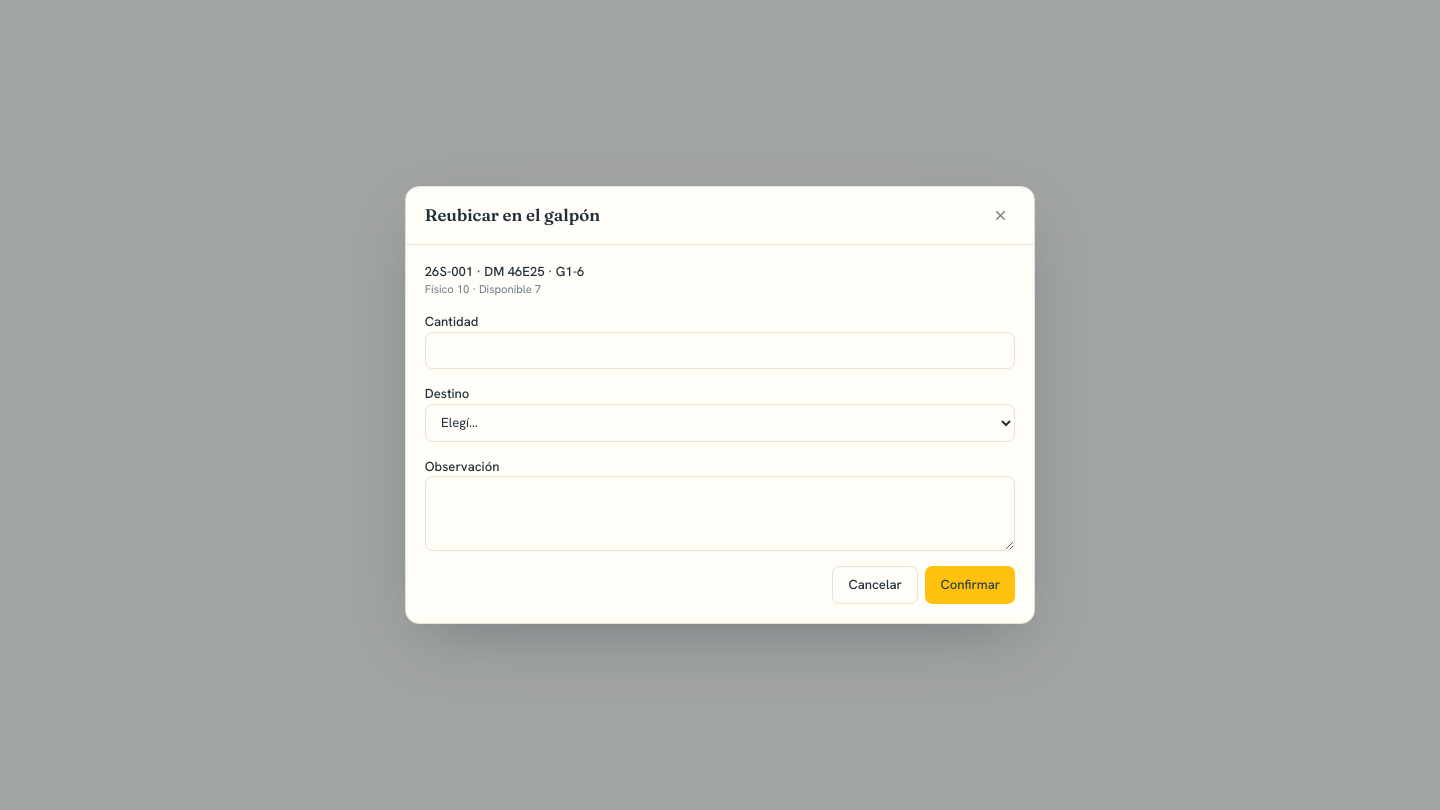
MovimientoDialog › reubicar más que lo disponible avisa antes de mandar (R5.3)
Select "G5-18" in the dropdown labelled "Destino": (720, 423) [425,404,1015,442]
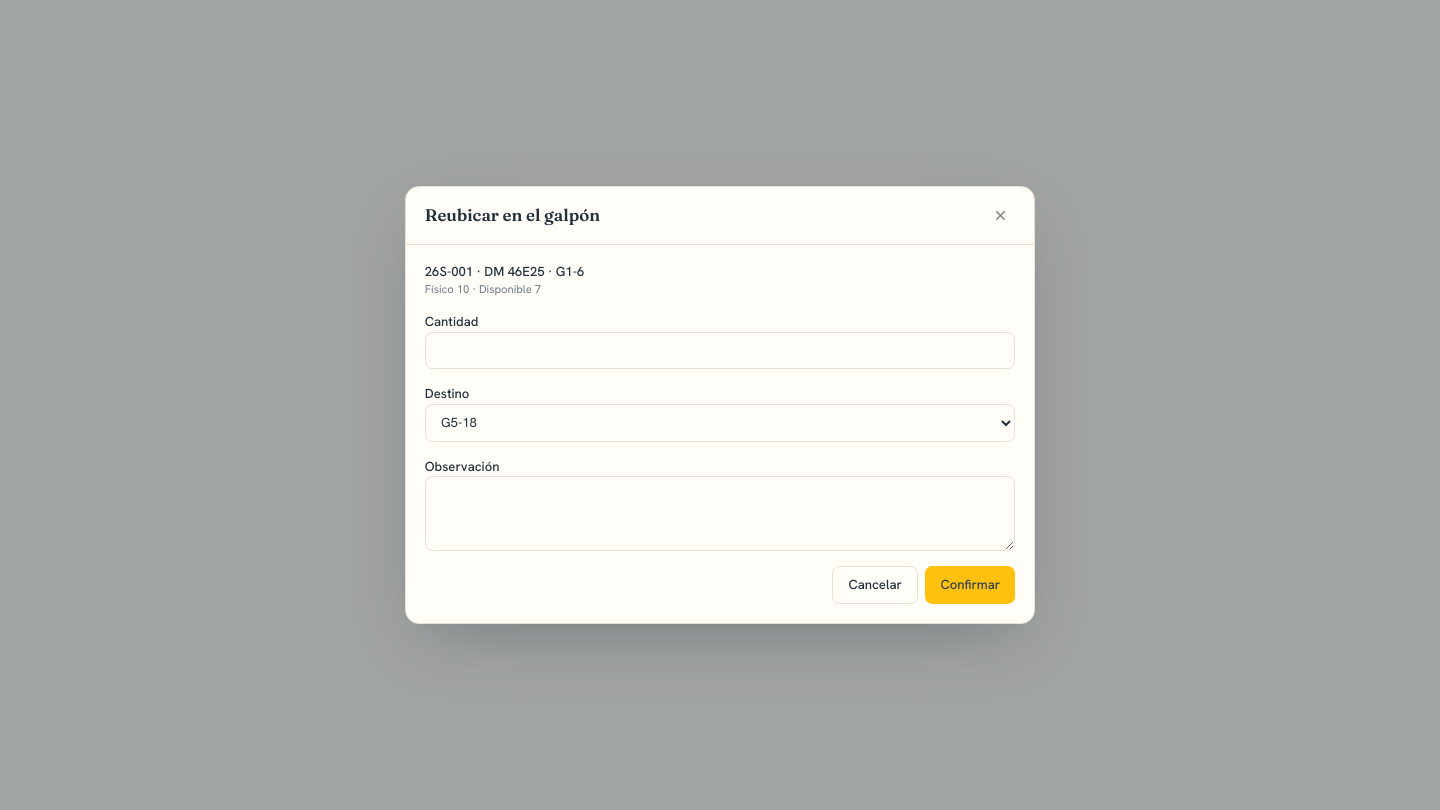
In the number field labelled "Cantidad": (720, 351) [425,332,1015,369], type "8"
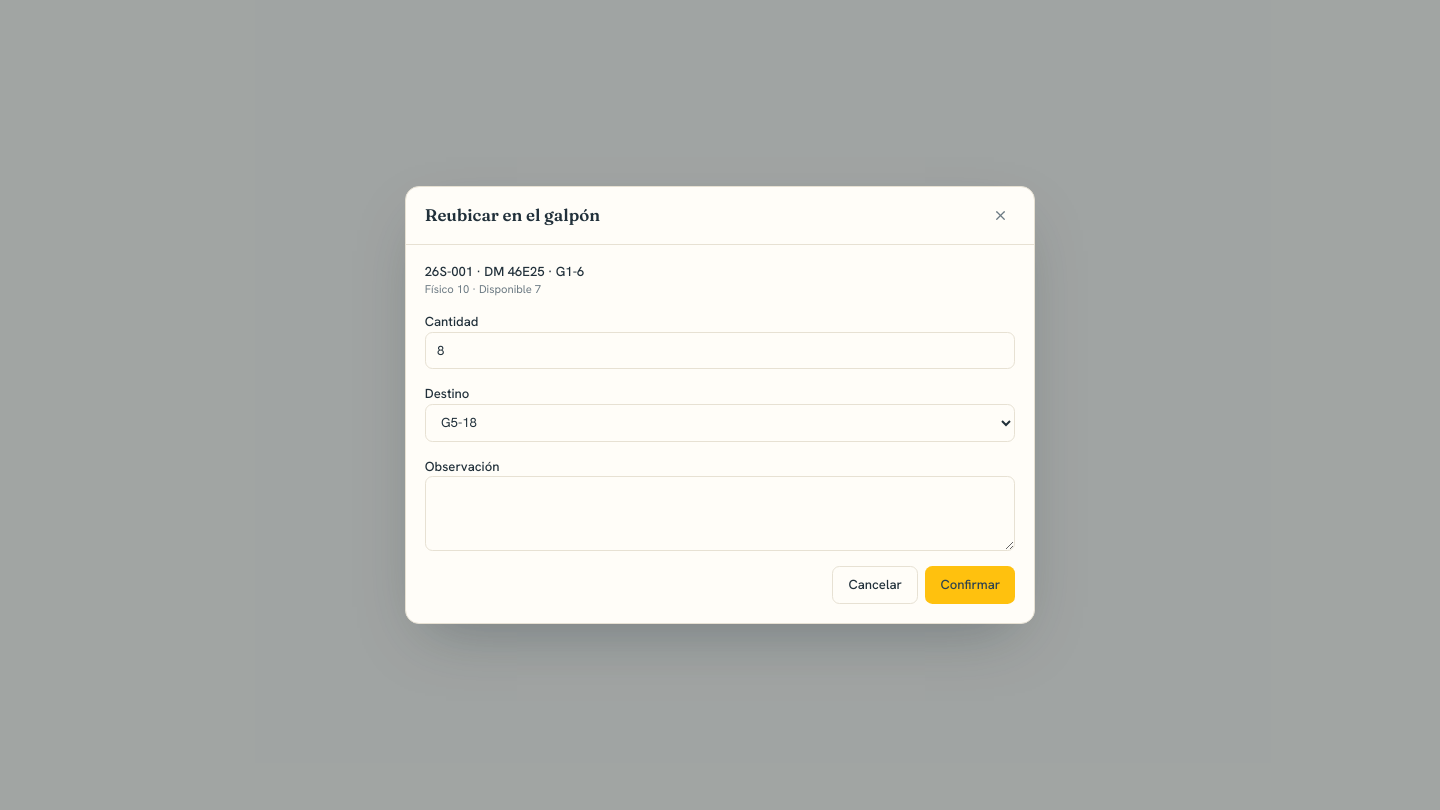
Click the button "Confirmar": (970, 585) [926,566,1015,604]
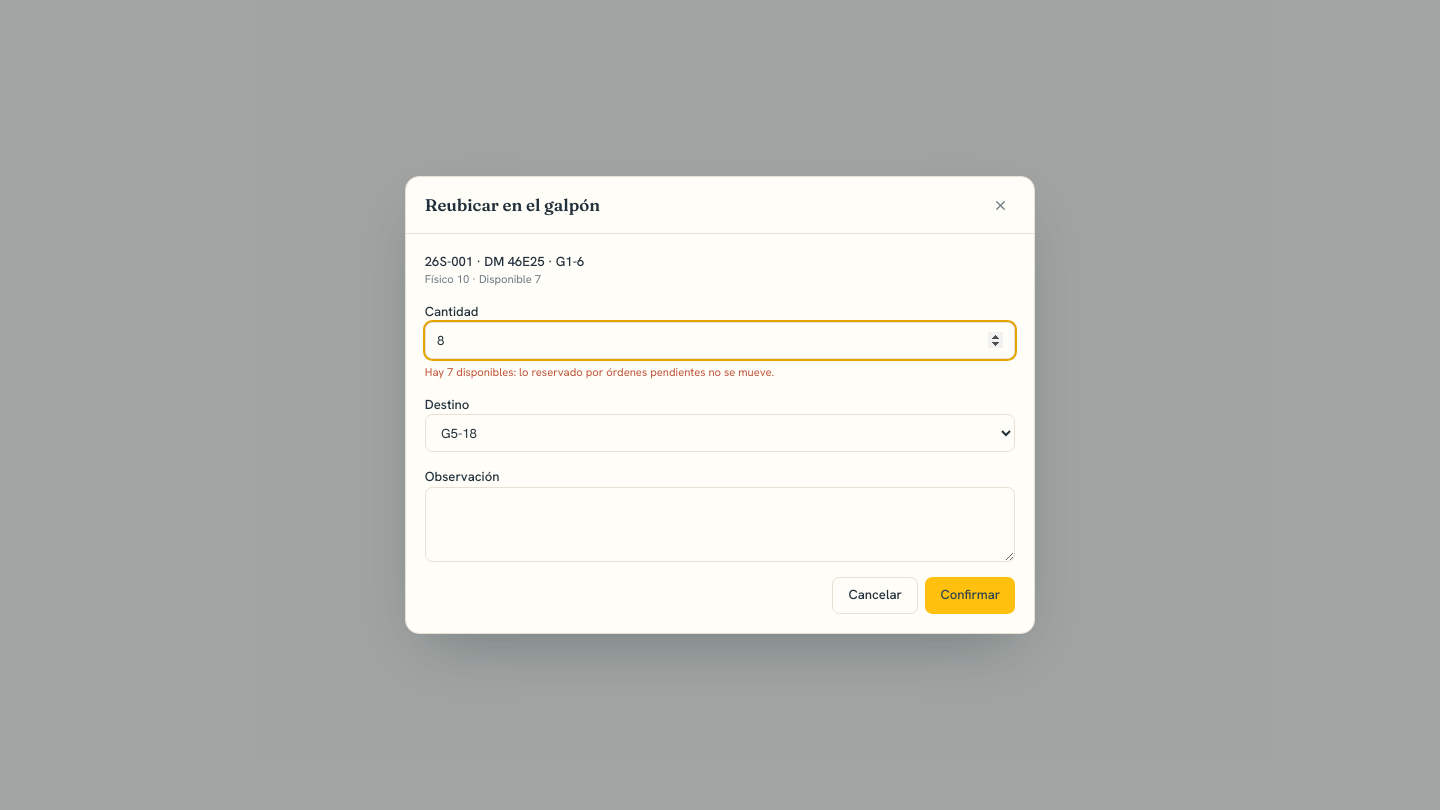
Expected: the text "Hay 7 disponibles" is shown, [425,365,774,379]
